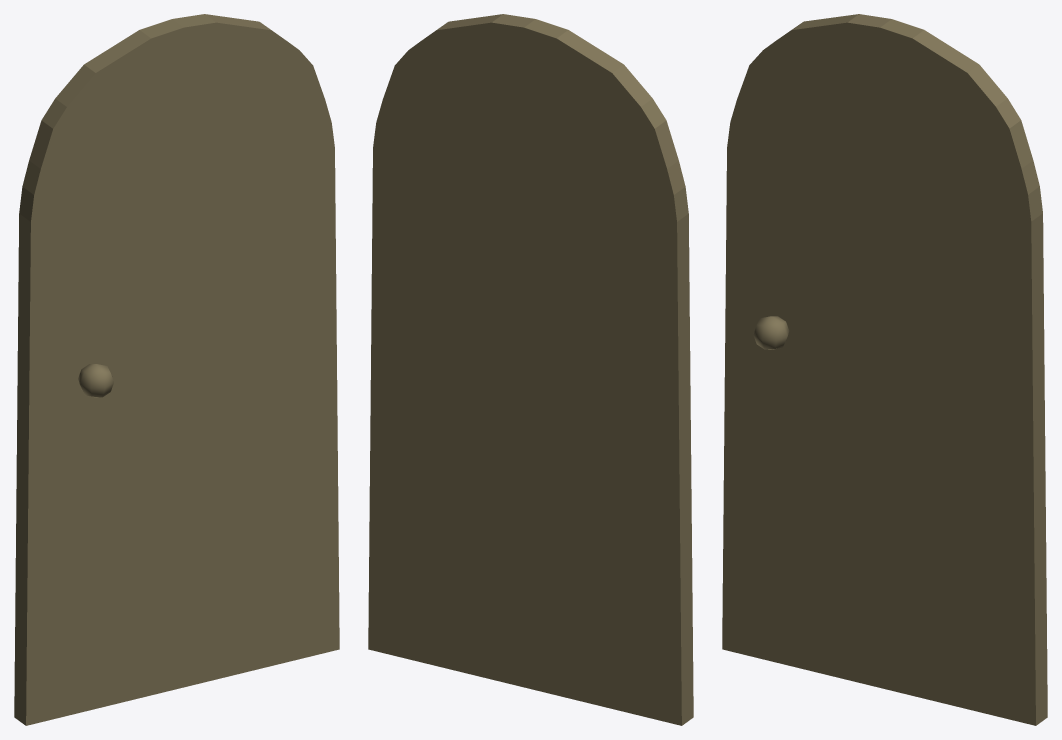
The model's file is DoorA_1.fbx.
3 views of the same model, side by side, from view 1: azimuth 30°, elevation 25°; view 2: azimuth 150°, elevation 25°; view 3: azimuth 330°, elevation 25° (orthographic).
Visible parts, largest first — view 1: DoorA_1; view 2: DoorA_1; view 3: DoorA_1.
Boxes of the visible parts, x1,y1,x2,y2 form: DoorA_1: [14, 14, 339, 725]; DoorA_1: [368, 14, 693, 725]; DoorA_1: [722, 14, 1047, 725].
Size of the model in its own units: 92.92 by 187 by 16.15.
